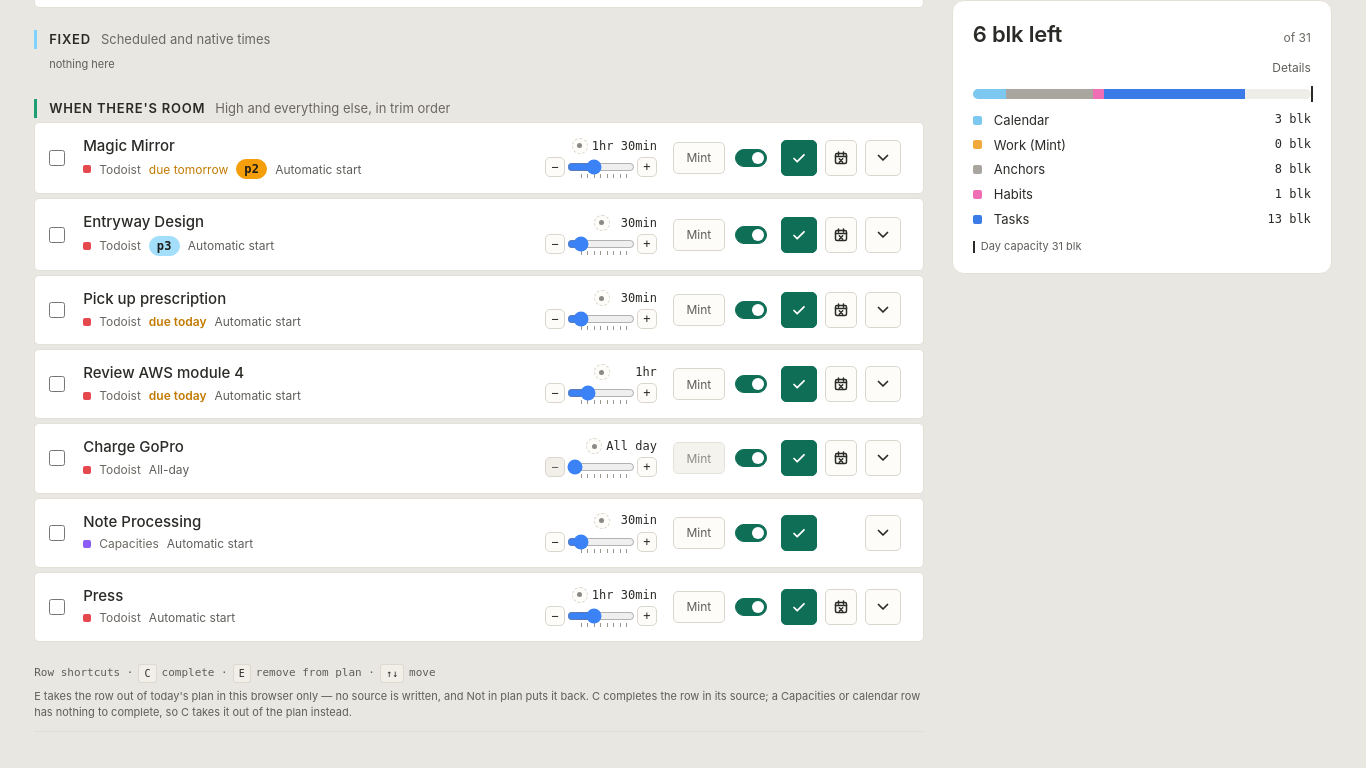
it: collapsed row duration cell › stepper + applies +15 minutes and − applies −15, at once
The image size is (1366, 768).
(page scrolled)
Step 1. Click the 7th button "+" → (647, 616), box [637,606,657,626]
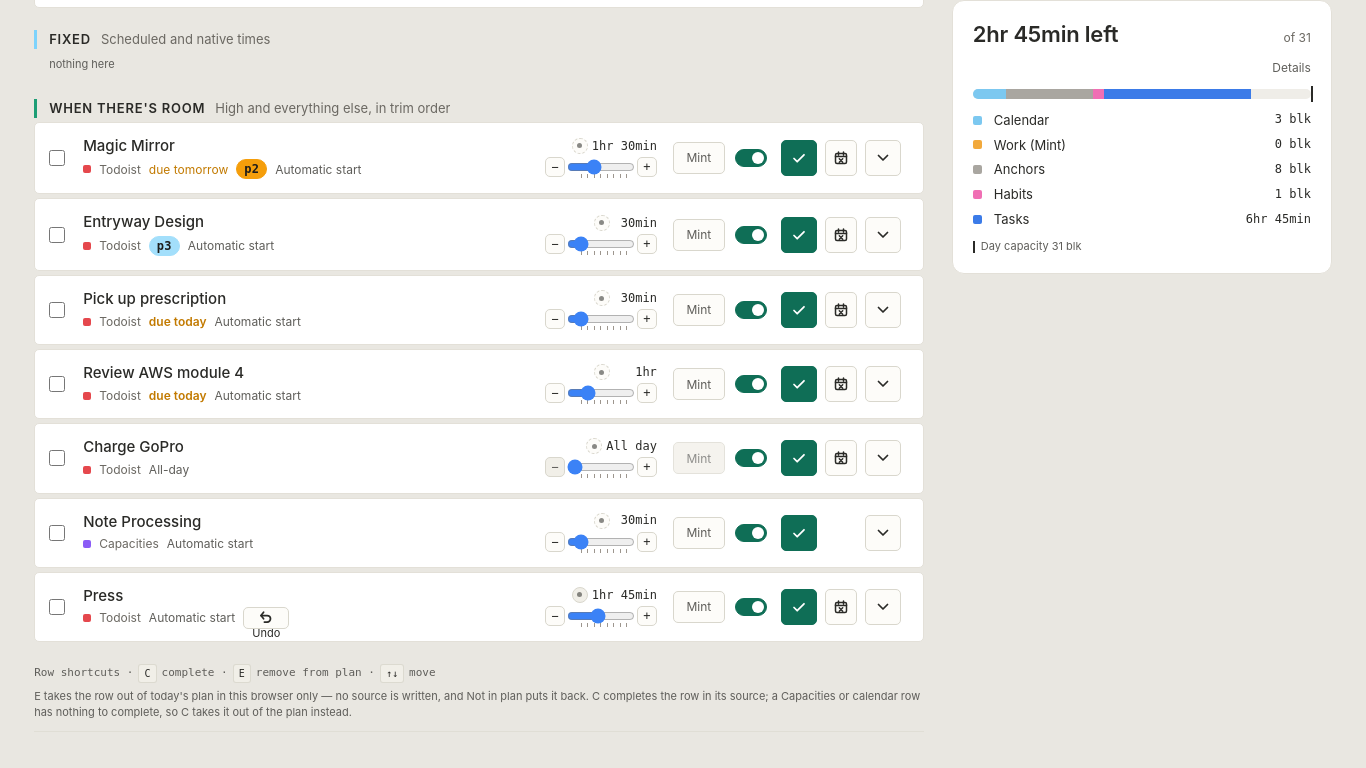
expect the text with class "dslider__label" reads "1hr 45min": met, box [592,588,657,602]
Step 2. Click the button "−" below "1hr 45min" → (555, 616), box [545,606,565,626]
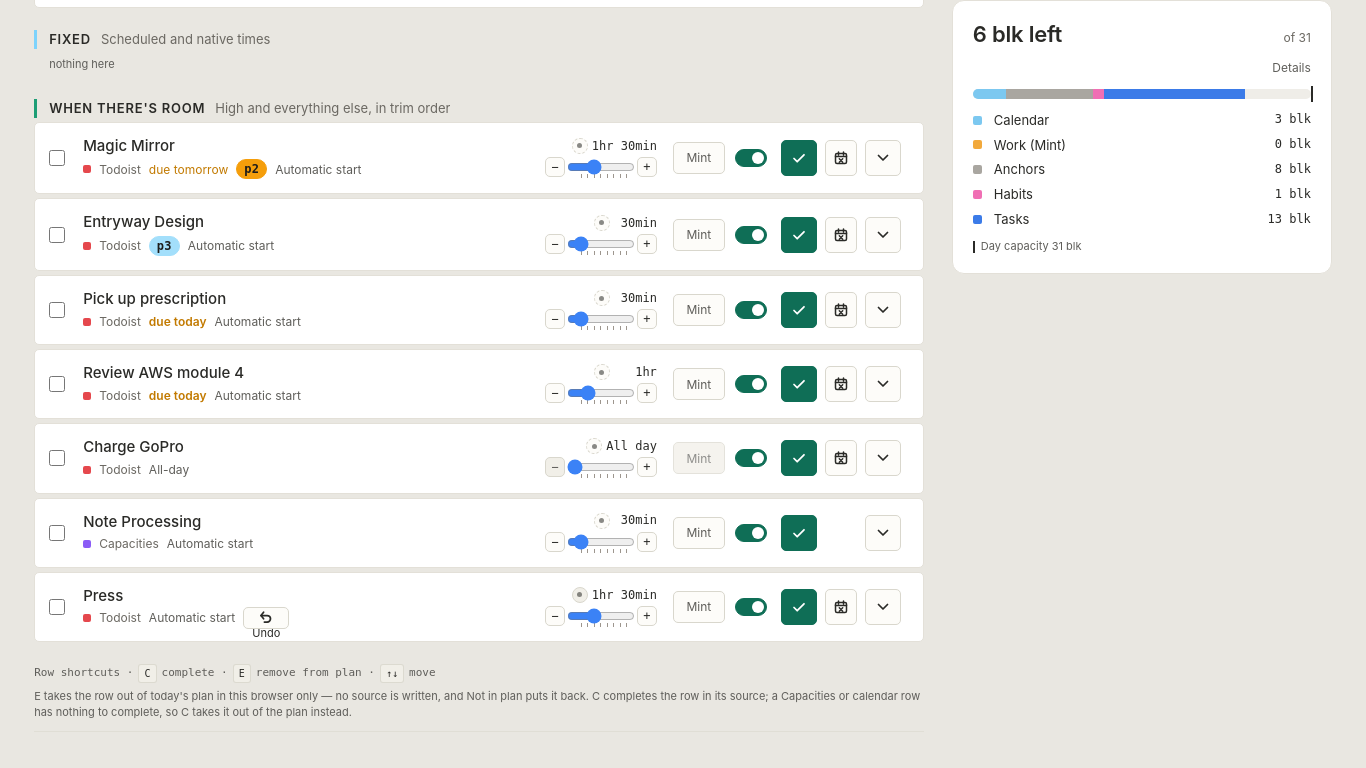
Step 3. Click the 7th button "−" → (555, 616), box [545,606,565,626]
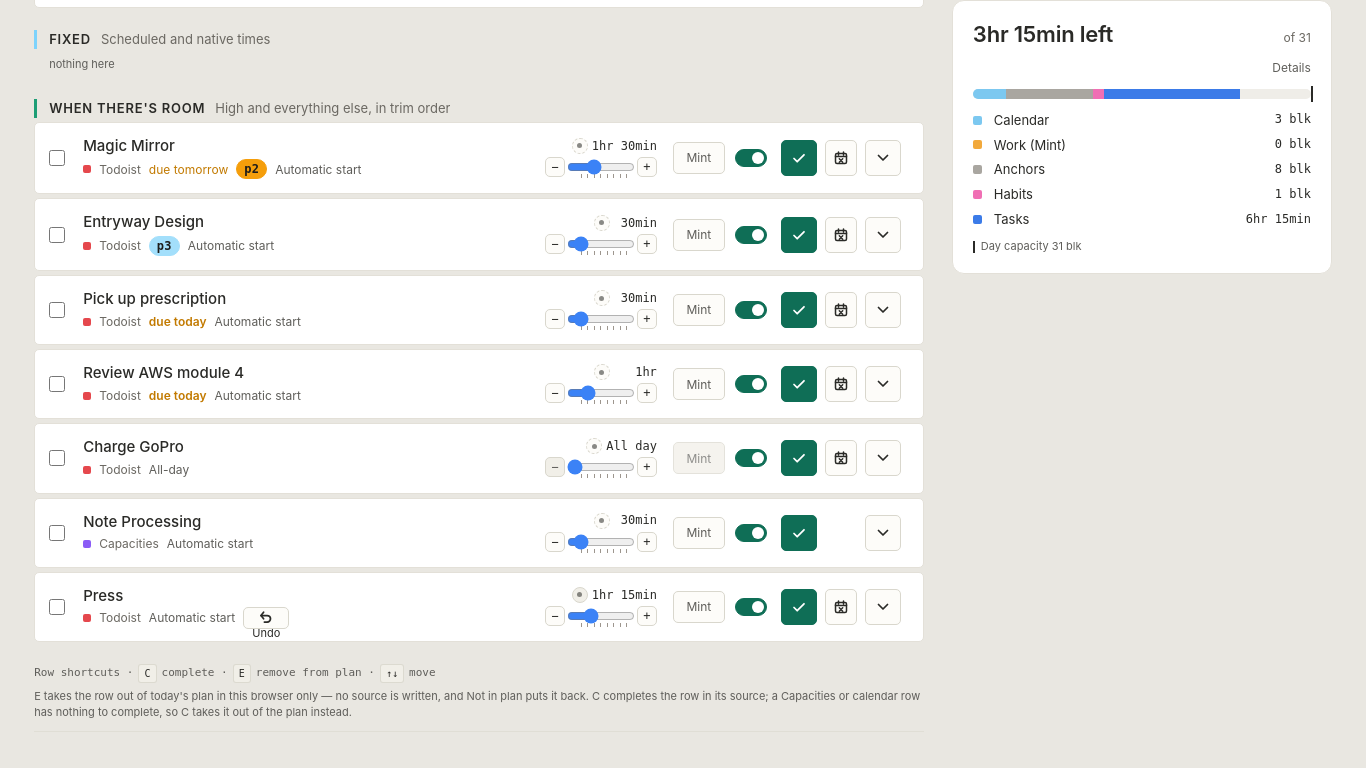
expect the text with class "dslider__label" reads "1hr 15min": met, box [592,588,657,602]
